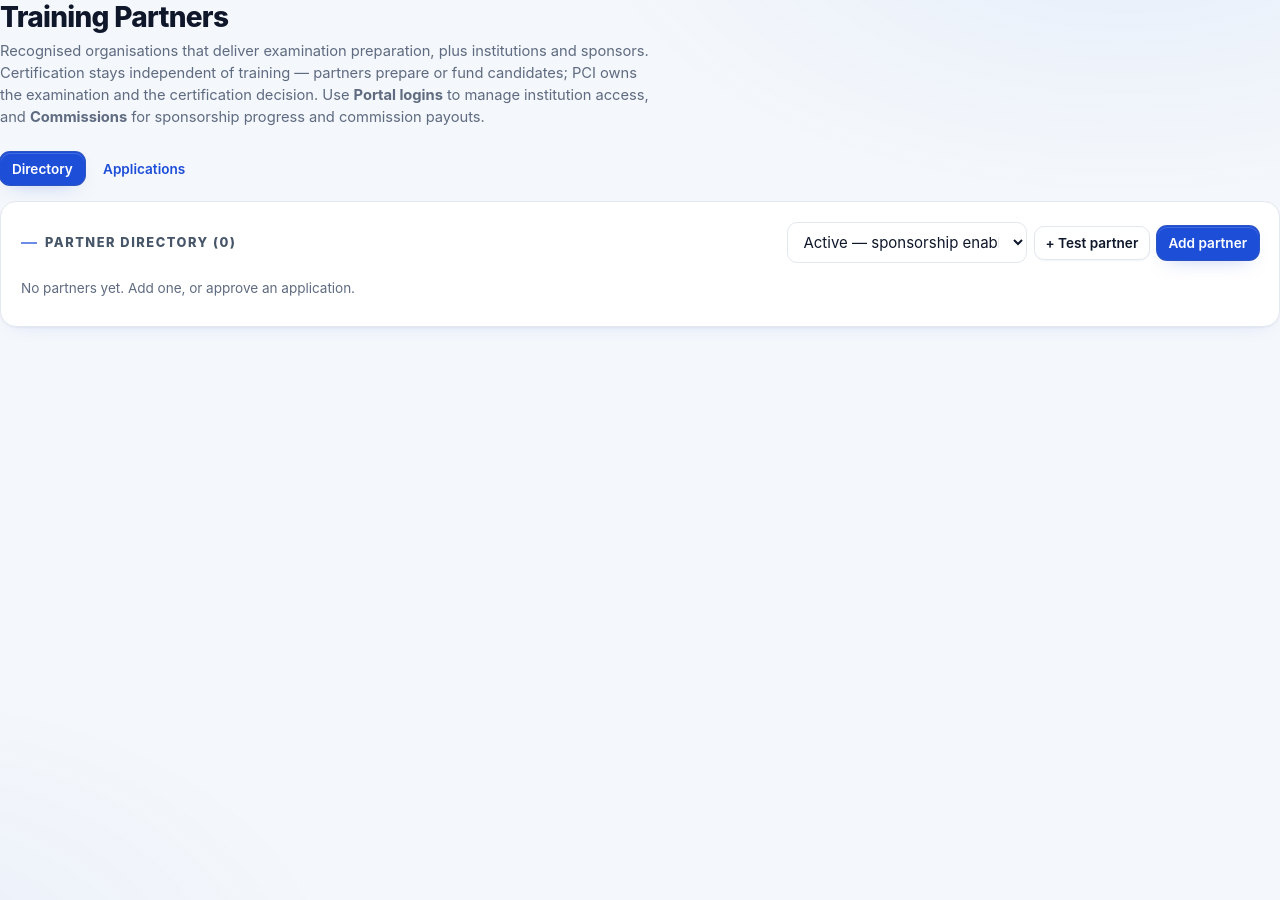
Admin Training Partners — test institutions › explains when a scenario mints no session (suspended lockout)
What coordinates should you click on to do the following:
click the button "+ Test partner"
I would click on:
 (1092, 243)
Its box is [1034,226,1150,260].
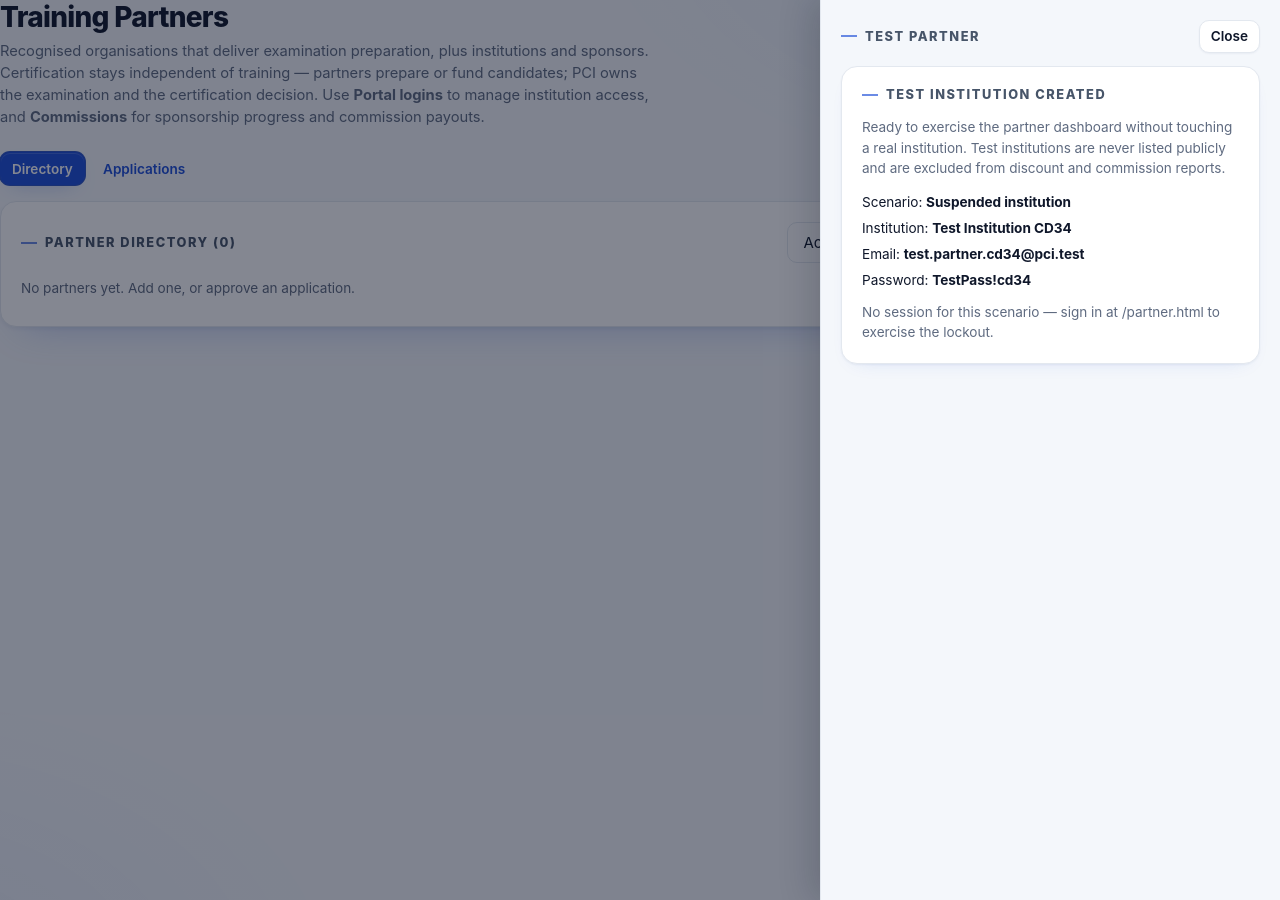
Expected: the text "No session for this scenario" is shown, [862,304,1220,340]
